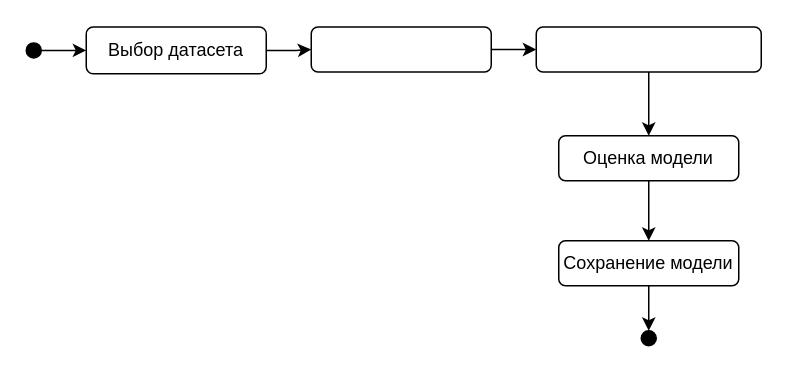
This 788x372 diagram has some shape labels left out. The shapes that lost their labels are listed below. From the top down, each one's centre as x and y in pixels, then its label:
At (400,49): "Предварительная обработка данных".
At (648,49): "Обучение модели на тренировочных данных".
